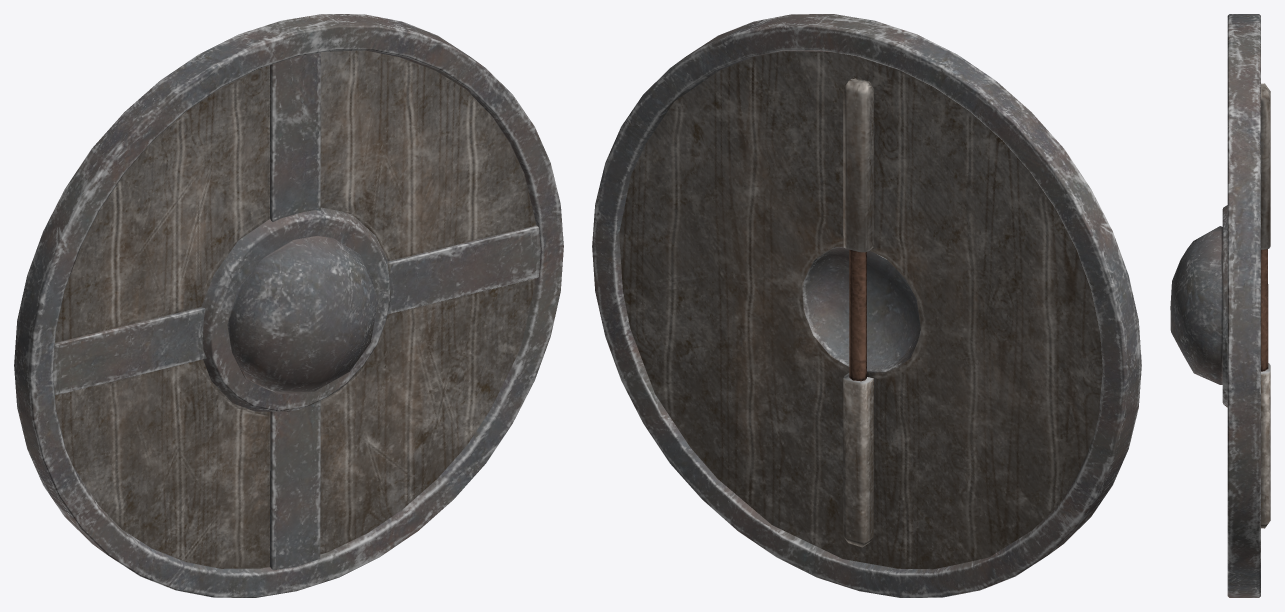
File: SM_Shield_01.fbx
The picture shows the model from 3 angles, left to right: view 1: azimuth 30°, elevation 25°; view 2: azimuth 150°, elevation 25°; view 3: azimuth 270°, elevation 25°; orthographic projection. The views are drawn at different scales.
Visible parts, largest first — view 1: SM_Shield_01_LOD0; view 2: SM_Shield_01_LOD0; view 3: SM_Shield_01_LOD0.
Part boxes in pixels (<box>): SM_Shield_01_LOD0: <box>14,14,563,597</box>; SM_Shield_01_LOD0: <box>592,14,1141,597</box>; SM_Shield_01_LOD0: <box>1170,14,1270,597</box>.
Bounding box in the file's own units: 78.23 × 13.4 × 78.24.
